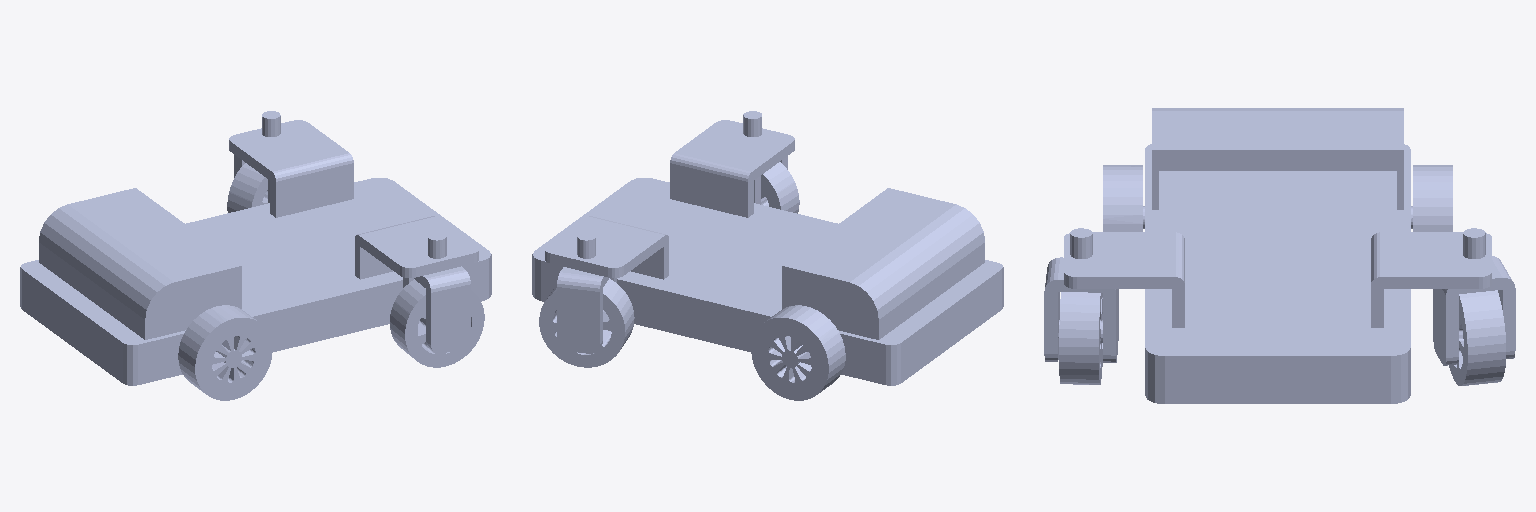
robot.urdf — 662_bot:
<?xml version="1.0" encoding="utf-8"?>
<!-- This URDF was automatically created by SolidWorks to URDF Exporter! Originally created by [author] ([email redacted]) 
     Commit Version: 1.6.0-4-g7f85cfe  Build Version: 1.6.7995.38578
     For more information, please see http://wiki.ros.org/sw_urdf_exporter -->
<robot
   name="662_bot">
  <link 
    name="dummy_link">
  </link>
  <joint
    name="dummy_joint"
    type="fixed">
    <parent
      link="dummy_link" />
    <child
      link="base_link" />
  </joint>
  <link
    name="base_link">
    <inertial>
      <origin
        xyz="0 0 0"
        rpy="0 0 0" />
      <mass
        value="57.7200890207757" />
      <inertia
        ixx="1.2991331467901"
        ixy="-3.57075255988714E-16"
        ixz="0.206009660815117"
        iyy="4.53263349681224"
        iyz="-1.6306400674182E-16"
        izz="5.55276261813866" />
    </inertial>
    <visual>
      <origin
        xyz="0 0 0"
        rpy="0 0 0" />
      <geometry>
        <mesh
          filename="package://Robot_Assembly/meshes/base_link.STL" />
      </geometry>
      <material
        name="">
        <color
          rgba="0.792156862745098 0.819607843137255 0.933333333333333 1" />
      </material>
    </visual>
    <collision>
      <origin
        xyz="0 0 0"
        rpy="0 0 0" />
      <geometry>
        <mesh
          filename="package://Robot_Assembly/meshes/base_link.STL" />
      </geometry>
    </collision>
  </link>
  <link
    name="rear_wheel_left">
    <inertial>
      <origin
        xyz="1.11022302462516E-16 0 -0.0418411207692297"
        rpy="0 0 0" />
      <mass
        value="2.25128553479309" />
      <inertia
        ixx="0.00778450520341825"
        ixy="-2.09007861276836E-18"
        ixz="1.5689055811651E-18"
        iyy="0.00778450520341825"
        iyz="6.86162569773148E-19"
        izz="0.0121750679482056" />
    </inertial>
    <visual>
      <origin
        xyz="0 0 0"
        rpy="0 0 0" />
      <geometry>
        <mesh
          filename="package://Robot_Assembly/meshes/rear-wheel-left.STL" />
      </geometry>
      <material
        name="">
        <color
          rgba="0.792156862745098 0.819607843137255 0.933333333333333 1" />
      </material>
    </visual>
    <collision>
      <origin
        xyz="0 0 0"
        rpy="0 0 0" />
      <geometry>
        <mesh
          filename="package://Robot_Assembly/meshes/rear-wheel-left.STL" />
      </geometry>
    </collision>
  </link>
  <joint
    name="rear_wheel_left_joint"
    type="continuous">
    <origin
      xyz="-0.254 0.33528 0.1016"
      rpy="1.5708 0 3.1416" />
    <parent
      link="base_link" />
    <child
      link="rear_wheel_left" />
    <axis
      xyz="0 0 -1" />
  </joint>
  <link
    name="rear_wheel_right">
    <inertial>
      <origin
        xyz="1.11022302462516E-16 0 -0.0418411207692296"
        rpy="0 0 0" />
      <mass
        value="2.25128553479309" />
      <inertia
        ixx="0.00778450520341824"
        ixy="-2.94807170313899E-18"
        ixz="2.0588996653005E-18"
        iyy="0.00778450520341824"
        iyz="-1.91756268618991E-18"
        izz="0.0121750679482055" />
    </inertial>
    <visual>
      <origin
        xyz="0 0 0"
        rpy="0 0 0" />
      <geometry>
        <mesh
          filename="package://Robot_Assembly/meshes/rear-wheel-right.STL" />
      </geometry>
      <material
        name="">
        <color
          rgba="0.792156862745098 0.819607843137255 0.933333333333333 1" />
      </material>
    </visual>
    <collision>
      <origin
        xyz="0 0 0"
        rpy="0 0 0" />
      <geometry>
        <mesh
          filename="package://Robot_Assembly/meshes/rear-wheel-right.STL" />
      </geometry>
    </collision>
  </link>
  <joint
    name="rear_wheel_right_joint"
    type="continuous">
    <origin
      xyz="-0.254 -0.33528 0.1016"
      rpy="1.5708 0 0" />
    <parent
      link="base_link" />
    <child
      link="rear_wheel_right" />
    <axis
      xyz="0 0 1" />
  </joint>
  <link
    name="front_wheel_left_steering">
    <inertial>
      <origin
        xyz="-2.22044604925031E-16 0 -0.148810521697732"
        rpy="0 0 0" />
      <mass
        value="1.36260899137695" />
      <inertia
        ixx="0.00648079554945431"
        ixy="-0.000491370725122072"
        ixz="-9.2798838919083E-18"
        iyy="0.00832913379680573"
        iyz="2.63427219891982E-18"
        izz="0.00404982823146118" />
    </inertial>
    <visual>
      <origin
        xyz="0 0 0"
        rpy="0 0 0" />
      <geometry>
        <mesh
          filename="package://Robot_Assembly/meshes/front-wheel-left-steering.STL" />
      </geometry>
      <material
        name="">
        <color
          rgba="0.792156862745098 0.819607843137255 0.933333333333333 1" />
      </material>
    </visual>
    <collision>
      <origin
        xyz="0 0 0"
        rpy="0 0 0" />
      <geometry>
        <mesh
          filename="package://Robot_Assembly/meshes/front-wheel-left-steering.STL" />
      </geometry>
    </collision>
  </link>
  <joint
    name="front_wheel_left_steering_joint"
    type="continuous">
    <origin
      xyz="0.254 0.37592 0.30607"
      rpy="0 0 1.5708" />
    <parent
      link="base_link" />
    <child
      link="front_wheel_left_steering" />
    <axis
      xyz="0 0 1" />
  </joint>
  <link
    name="front_wheel_left">
    <inertial>
      <origin
        xyz="-0.00921693241436478 -1.11022302462516E-16 -0.0369683399257938"
        rpy="0 0 0" />
      <mass
        value="1.7786506153732" />
      <inertia
        ixx="0.00663099373913342"
        ixy="2.19864606816595E-18"
        ixz="0.00108873765653927"
        iyy="0.00635955008173795"
        iyz="-2.12709494518011E-18"
        izz="0.0107263851595592" />
    </inertial>
    <visual>
      <origin
        xyz="0 0 0"
        rpy="0 0 0" />
      <geometry>
        <mesh
          filename="package://Robot_Assembly/meshes/front-wheel-left.STL" />
      </geometry>
      <material
        name="">
        <color
          rgba="0.792156862745098 0.819607843137255 0.933333333333333 1" />
      </material>
    </visual>
    <collision>
      <origin
        xyz="0 0 0"
        rpy="0 0 0" />
      <geometry>
        <mesh
          filename="package://Robot_Assembly/meshes/front-wheel-left.STL" />
      </geometry>
    </collision>
  </link>
  <joint
    name="front_wheel_left_joint"
    type="continuous">
    <origin
      xyz="0.036968 0.0092169 -0.20828"
      rpy="1.5708 0 1.5708" />
    <parent
      link="front_wheel_left_steering" />
    <child
      link="front_wheel_left" />
    <axis
      xyz="0.24191 0 0.9703" />
  </joint>
  <link
    name="front_wheel_right_steering">
    <inertial>
      <origin
        xyz="-4.44089209850063E-16 -1.38777878078145E-17 -0.148810521697732"
        rpy="0 0 0" />
      <mass
        value="1.36260899137696" />
      <inertia
        ixx="0.00636320999468119"
        ixy="0.000101395012660662"
        ixz="-6.30188725889053E-18"
        iyy="0.0084467193515789"
        iyz="-3.16026172422355E-19"
        izz="0.00404982823146119" />
    </inertial>
    <visual>
      <origin
        xyz="0 0 0"
        rpy="0 0 0" />
      <geometry>
        <mesh
          filename="package://Robot_Assembly/meshes/front-wheel-right-steering.STL" />
      </geometry>
      <material
        name="">
        <color
          rgba="0.792156862745098 0.819607843137255 0.933333333333333 1" />
      </material>
    </visual>
    <collision>
      <origin
        xyz="0 0 0"
        rpy="0 0 0" />
      <geometry>
        <mesh
          filename="package://Robot_Assembly/meshes/front-wheel-right-steering.STL" />
      </geometry>
    </collision>
  </link>
  <joint
    name="front_wheel_right_steering_joint"
    type="continuous">
    <origin
      xyz="0.254 -0.37592 0.30607"
      rpy="0 0 1.5708" />
    <parent
      link="base_link" />
    <child
      link="front_wheel_right_steering" />
    <axis
      xyz="0 0 1" />
    <limit
      lower="0"
      upper="0"
      effort="0"
      velocity="0" />
  </joint>
  <link
    name="front_wheel_right">
    <inertial>
      <origin
        xyz="0.00184760846713564 0 -0.0380551749825457"
        rpy="0 0 0" />
      <mass
        value="1.7786506153732" />
      <inertia
        ixx="0.00637045762088019"
        ixy="1.91905902112303E-19"
        ixz="-0.000224662485624304"
        iyy="0.00635955008173793"
        iyz="-7.24196626290174E-19"
        izz="0.0109869212778124" />
    </inertial>
    <visual>
      <origin
        xyz="0 0 0"
        rpy="0 0 0" />
      <geometry>
        <mesh
          filename="package://Robot_Assembly/meshes/front-wheel-right.STL" />
      </geometry>
      <material
        name="">
        <color
          rgba="0.792156862745098 0.819607843137255 0.933333333333333 1" />
      </material>
    </visual>
    <collision>
      <origin
        xyz="0 0 0"
        rpy="0 0 0" />
      <geometry>
        <mesh
          filename="package://Robot_Assembly/meshes/front-wheel-right.STL" />
      </geometry>
    </collision>
  </link>
  <joint
    name="front_wheel_right_joint"
    type="continuous">
    <origin
      xyz="-0.038055 0.0018476 -0.20828"
      rpy="1.5708 0 -1.5708" />
    <parent
      link="front_wheel_right_steering" />
    <child
      link="front_wheel_right" />
    <axis
      xyz="-0.048494 0 0.99882" />
  </joint>
  <transmission name="rear_wheel_left_trans">
    <type>transmission_interface/SimpleTransmission</type>
    <joint name="rear_wheel_left_joint">
    <hardwareInterface>hardware_interface/VelocityJointInterface</hardwareInterface>
    </joint>
    <actuator name="rear_wheel_left_motor">
    <mechanicalReduction>50</mechanicalReduction>
    <hardwareInterface>hardware_interface/VelocityJointInterface</hardwareInterface>
    </actuator>
  </transmission>
  <transmission name="rear_wheel_right_trans">
    <type>transmission_interface/SimpleTransmission</type>
    <joint name="rear_wheel_right_joint">
    <hardwareInterface>hardware_interface/VelocityJointInterface</hardwareInterface>
    </joint>
    <actuator name="rear_wheel_right_motor">
    <mechanicalReduction>50</mechanicalReduction>
    <hardwareInterface>hardware_interface/VelocityJointInterface</hardwareInterface>
    </actuator>
  </transmission>
  <transmission name="front_wheel_left_steering_trans">
    <type>transmission_interface/SimpleTransmission</type>
    <joint name="front_wheel_left_steering_joint">
    <hardwareInterface>hardware_interface/EffortJointInterface</hardwareInterface>
    </joint>
    <actuator name="front_wheel_left_steering_motor">
    <mechanicalReduction>50</mechanicalReduction>
    <hardwareInterface>hardware_interface/EffortJointInterface</hardwareInterface>
    </actuator>
  </transmission>
  <transmission name="front_wheel_left_trans">
    <type>transmission_interface/SimpleTransmission</type>
    <joint name="front_wheel_left_joint">
    <hardwareInterface>hardware_interface/EffortJointInterface</hardwareInterface>
    </joint>
    <actuator name="front_wheel_left_motor">
    <mechanicalReduction>50</mechanicalReduction>
    <hardwareInterface>hardware_interface/EffortJointInterface</hardwareInterface>
    </actuator>
  </transmission>
  <transmission name="front_wheel_right_steering_trans">
    <type>transmission_interface/SimpleTransmission</type>
    <joint name="front_wheel_right_steering_joint">
    <hardwareInterface>hardware_interface/EffortJointInterface</hardwareInterface>
    </joint>
    <actuator name="front_wheel_right_steering_motor">
    <mechanicalReduction>50</mechanicalReduction>
    <hardwareInterface>hardware_interface/EffortJointInterface</hardwareInterface>
    </actuator>
  </transmission>
  <transmission name="front_wheel_right_trans">
    <type>transmission_interface/SimpleTransmission</type>
    <joint name="front_wheel_right_joint">
    <hardwareInterface>hardware_interface/EffortJointInterface</hardwareInterface>
    </joint>
    <actuator name="front_wheel_right_motor">
    <mechanicalReduction>50</mechanicalReduction>
    <hardwareInterface>hardware_interface/EffortJointInterface</hardwareInterface>
    </actuator>
  </transmission>
  <!--<transmission name="laser_trans">
    <type>transmission_interface/SimpleTransmission</type>
    <joint name="laser_joint">
    <hardwareInterface>EffortJointInterface</hardwareInterface>
    </joint>
    <actuator name="laser_motor">
    <mechanicalReduction>50</mechanicalReduction>
    <hardwareInterface>EffortJointInterface</hardwareInterface>
    </actuator>
  </transmission> -->
</robot>

--- Render facts (derived) ---
3 views of the same robot in one strip: view 1: azimuth 30°, elevation 25°; view 2: azimuth 150°, elevation 25°; view 3: azimuth 270°, elevation 25° (orthographic).
Robot: 662_bot — 8 links, 7 joints (6 continuous, 1 fixed); root link dummy_link; default pose: all joints at 0.
Visible links, largest first — view 1: base_link, rear_wheel_right, front_wheel_right_steering, front_wheel_right, front_wheel_left, front_wheel_left_steering; view 2: base_link, rear_wheel_left, front_wheel_left_steering, front_wheel_left, front_wheel_right, front_wheel_right_steering; view 3: base_link, front_wheel_left, front_wheel_left_steering, front_wheel_right, front_wheel_right_steering, rear_wheel_left, rear_wheel_right.
Link boxes in pixels (x1,y1,x2,y2): base_link: (20,120,491,385); rear_wheel_right: (178,305,272,400); front_wheel_right_steering: (403,233,470,353); front_wheel_right: (390,279,484,367); front_wheel_left: (227,163,267,212); front_wheel_left_steering: (234,111,280,202); base_link: (532,120,1003,385); rear_wheel_left: (751,305,845,400); front_wheel_left_steering: (557,233,616,353); front_wheel_left: (539,278,634,367); front_wheel_right: (761,162,799,213); front_wheel_right_steering: (743,111,787,204); base_link: (1064,108,1491,403); front_wheel_left: (1449,290,1505,385); front_wheel_left_steering: (1433,228,1515,365); front_wheel_right: (1059,292,1102,384); front_wheel_right_steering: (1044,228,1118,362); rear_wheel_left: (1411,165,1452,231); rear_wheel_right: (1103,165,1144,231).
Bounding box of the posed robot: 0.9652 × 0.9016 × 0.3097 m (x, y, z).
Meshes: 7 distinct files referenced, 7 mesh visuals loaded (7 binary STL).
